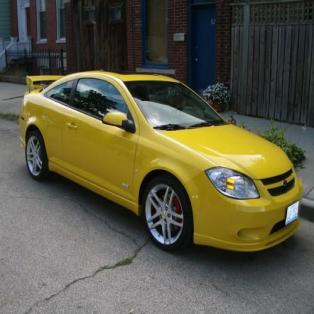Auto: (18, 70, 304, 255)
